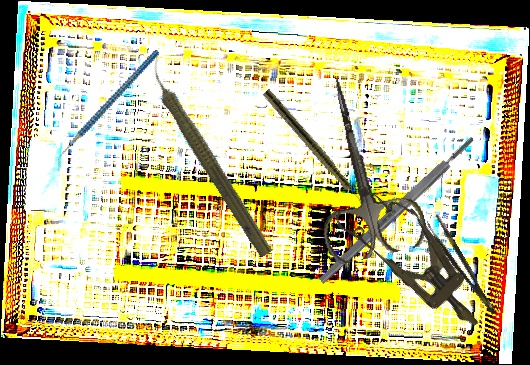Chopper: (29, 49, 186, 172)
Handpiece: (137, 53, 281, 261), (260, 88, 371, 212)
Iris Scissors: (288, 65, 431, 268)
Scalpel Handle: (316, 134, 478, 286)
Speculum: (325, 170, 502, 349)
Tissue Forceps: (424, 214, 498, 320)
